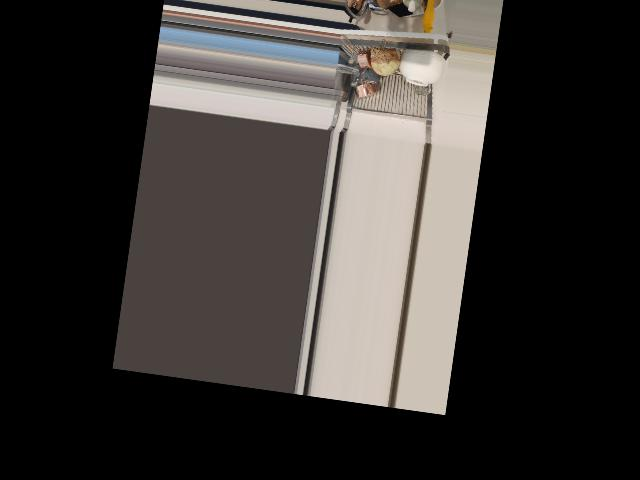onion: (369, 42, 401, 79)
